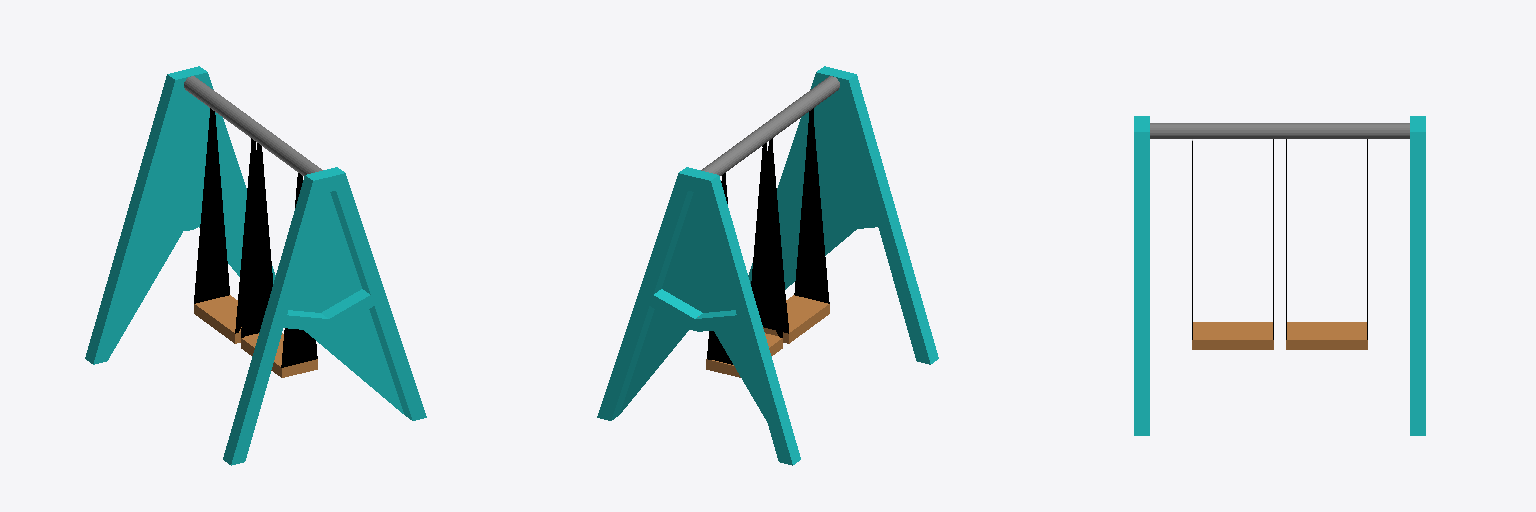
File: playground.obj
3 renders of one model, left to right at view 1: azimuth 30°, elevation 25°; view 2: azimuth 150°, elevation 25°; view 3: azimuth 270°, elevation 25°, orthographic.
Visible parts, largest first — view 1: Mesh1 Model, Mesh2 Model; view 2: Mesh1 Model, Mesh2 Model; view 3: Mesh1 Model, Mesh2 Model.
Part boxes in pixels (bbox=[...]): Mesh1 Model: bbox=[85, 66, 426, 465]; Mesh2 Model: bbox=[194, 108, 256, 343]; Mesh1 Model: bbox=[597, 66, 938, 465]; Mesh2 Model: bbox=[706, 143, 782, 377]; Mesh1 Model: bbox=[1134, 116, 1425, 435]; Mesh2 Model: bbox=[1286, 139, 1367, 349].
Bounding box in the file's own units: 1.64 × 2.12 × 2.12.